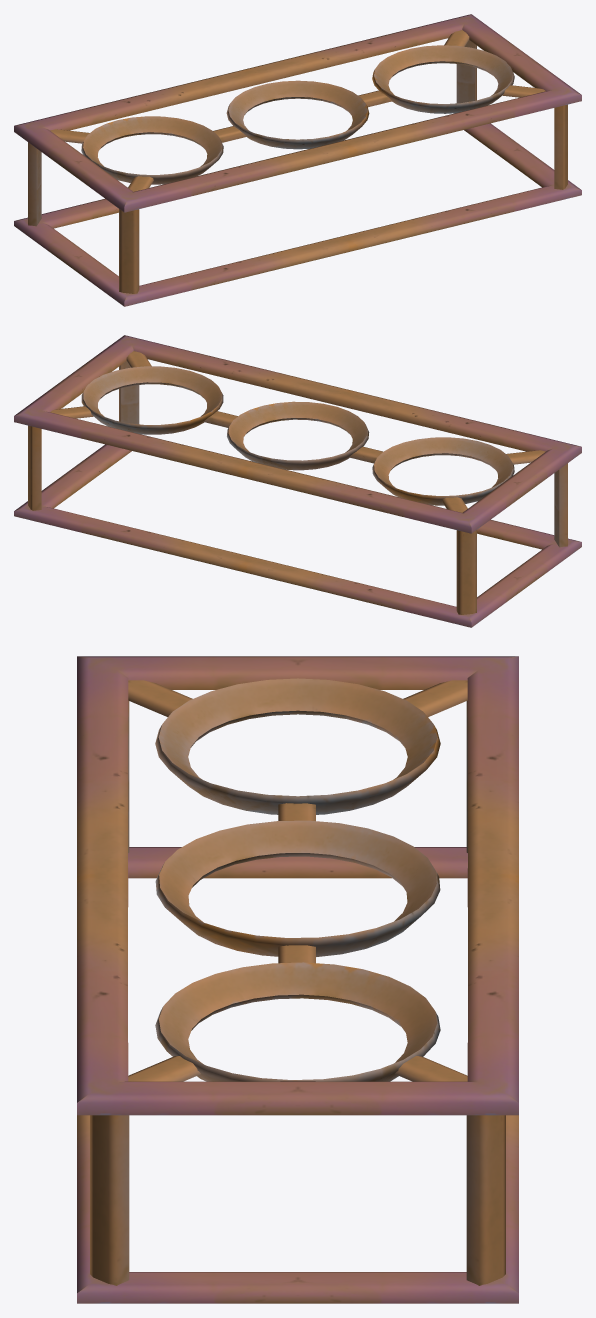
Rendered from SM_Potion_Props_Stand_06.fbx.
The picture shows the model from 3 angles, top to bottom: view 1: azimuth 30°, elevation 25°; view 2: azimuth 150°, elevation 25°; view 3: azimuth 270°, elevation 25°; orthographic projection. The views are drawn at different scales.
Visible parts, largest first — view 1: SM_Potion_Props_Stand_06_LOD0; view 2: SM_Potion_Props_Stand_06_LOD0; view 3: SM_Potion_Props_Stand_06_LOD0.
Boxes of the visible parts, box(x1,y1,x2,y2) form: SM_Potion_Props_Stand_06_LOD0: box(14, 14, 581, 306); SM_Potion_Props_Stand_06_LOD0: box(14, 335, 581, 627); SM_Potion_Props_Stand_06_LOD0: box(77, 656, 518, 1303).
Size of what is drawn, in the model's own units: 28.62 by 6.11 by 11.97.
